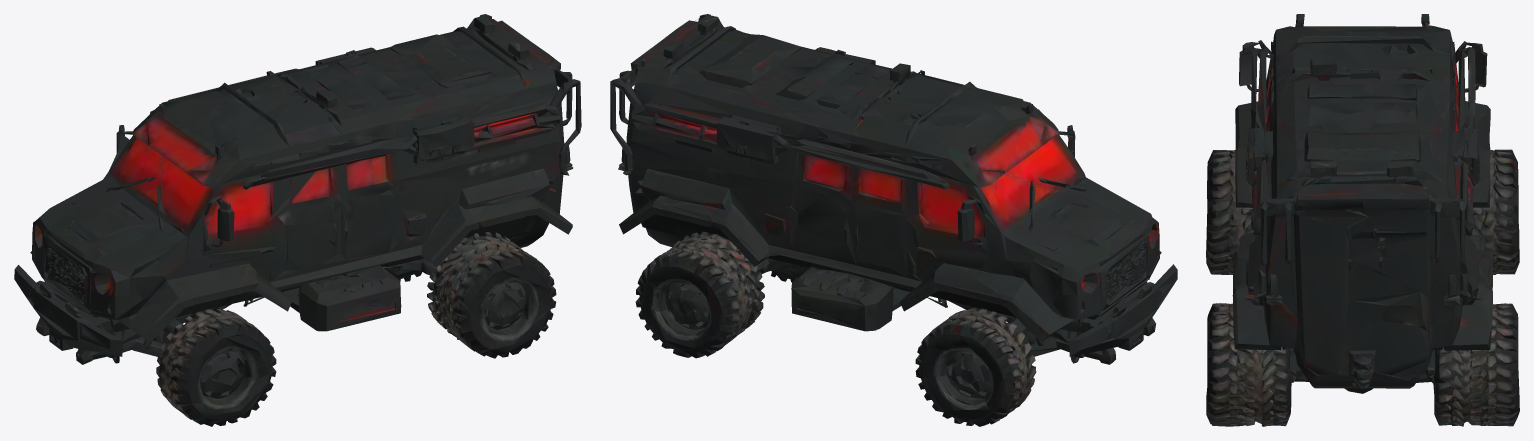
File: mx_car_armored.glb
The picture shows the model from 3 angles, left to right: view 1: azimuth 30°, elevation 25°; view 2: azimuth 150°, elevation 25°; view 3: azimuth 270°, elevation 25°; orthographic projection. The views are drawn at different scales.
Bounding box in the file's own units: 1.9 × 0.9585 × 0.942.
Materials: 1 (1 with a texture image).
